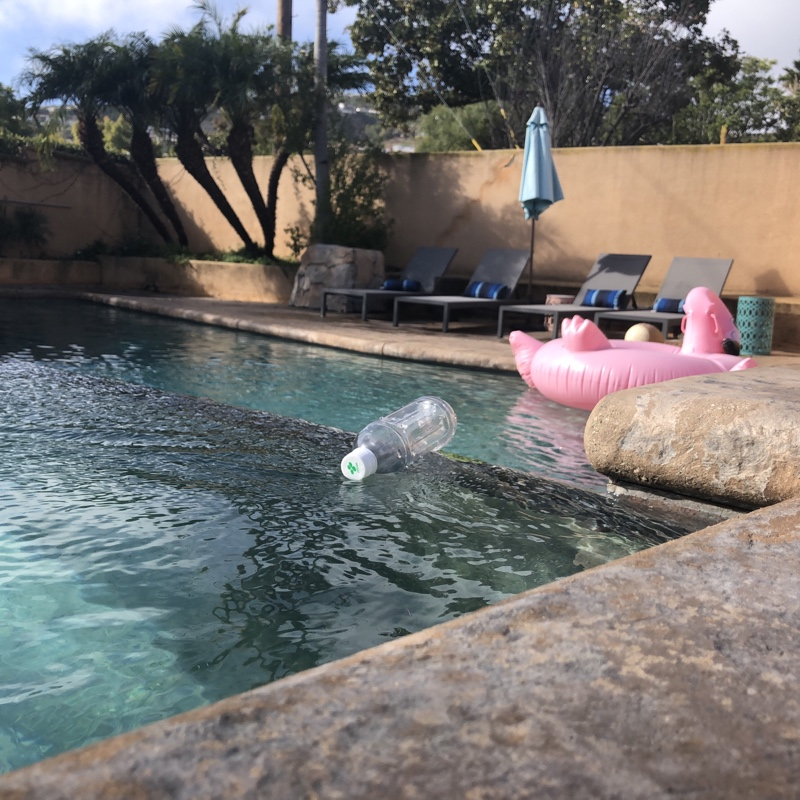Plastic Bottle: (334, 392, 461, 483)
